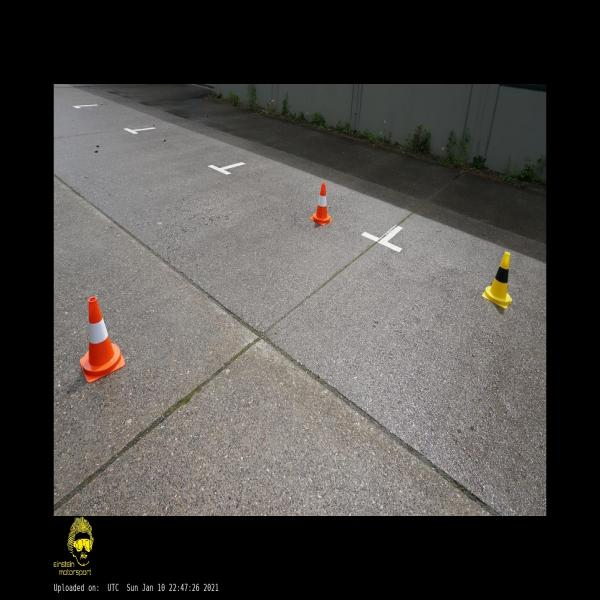orange_cone: (80, 296, 125, 383), (310, 183, 333, 226)
yellow_cone: (482, 252, 512, 308)
